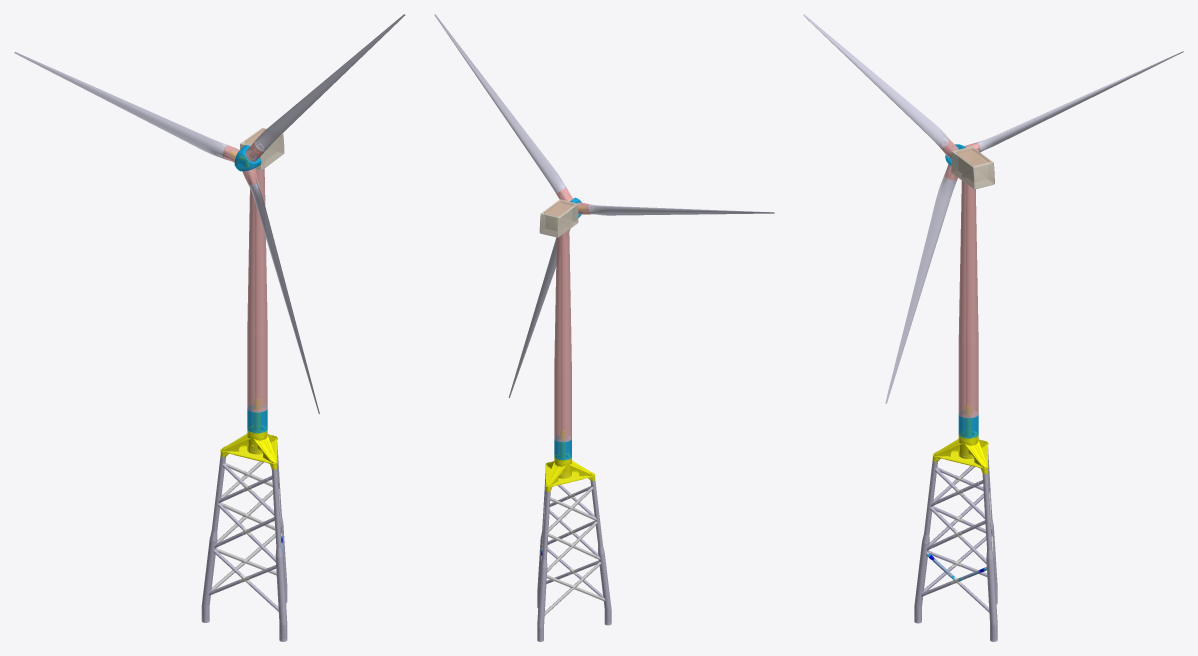
The picture shows the model from 3 angles, left to right: view 1: azimuth 30°, elevation 25°; view 2: azimuth 210°, elevation 25°; view 3: azimuth 270°, elevation 25°; orthographic projection. The views are drawn at different scales.
Visible parts, largest first — view 1: 2022-08-30-22-0407-Windkraftturm; view 2: 2022-08-30-22-0407-Windkraftturm; view 3: 2022-08-30-22-0407-Windkraftturm.
Part boxes in pixels (x1,y1,x2,y2): 2022-08-30-22-0407-Windkraftturm: (14, 14, 405, 641); 2022-08-30-22-0407-Windkraftturm: (434, 14, 774, 641); 2022-08-30-22-0407-Windkraftturm: (803, 14, 1183, 641).
Bounding box in the file's own units: 12.47 × 39.75 × 21.51.
